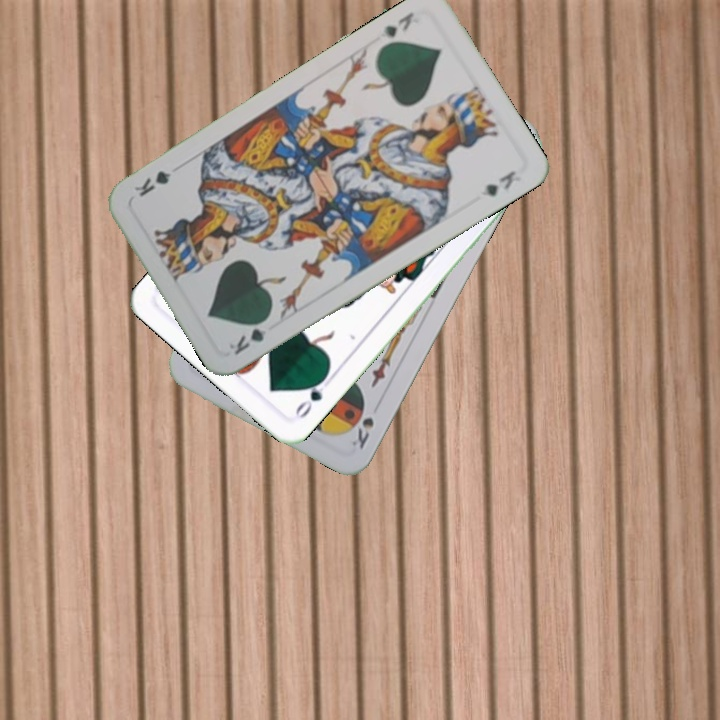GK: (224, 313, 273, 358), (376, 7, 417, 41)
GO: (290, 371, 330, 422)
SK: (347, 413, 377, 452)
